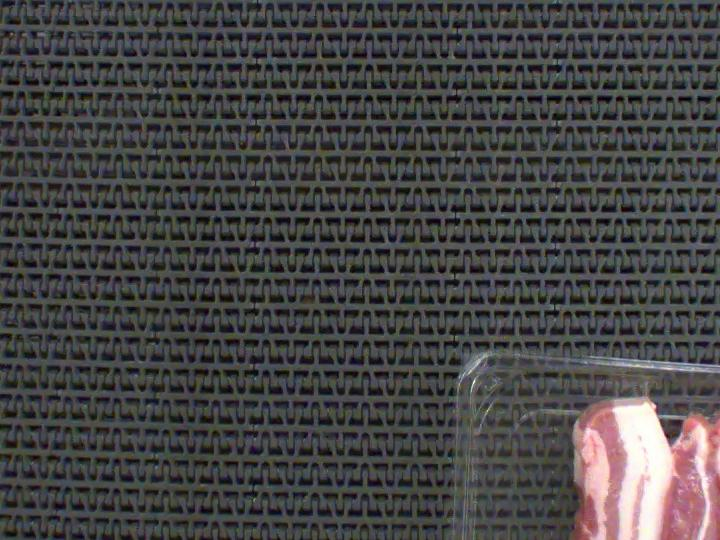packaging-error: (620, 373, 652, 410)
